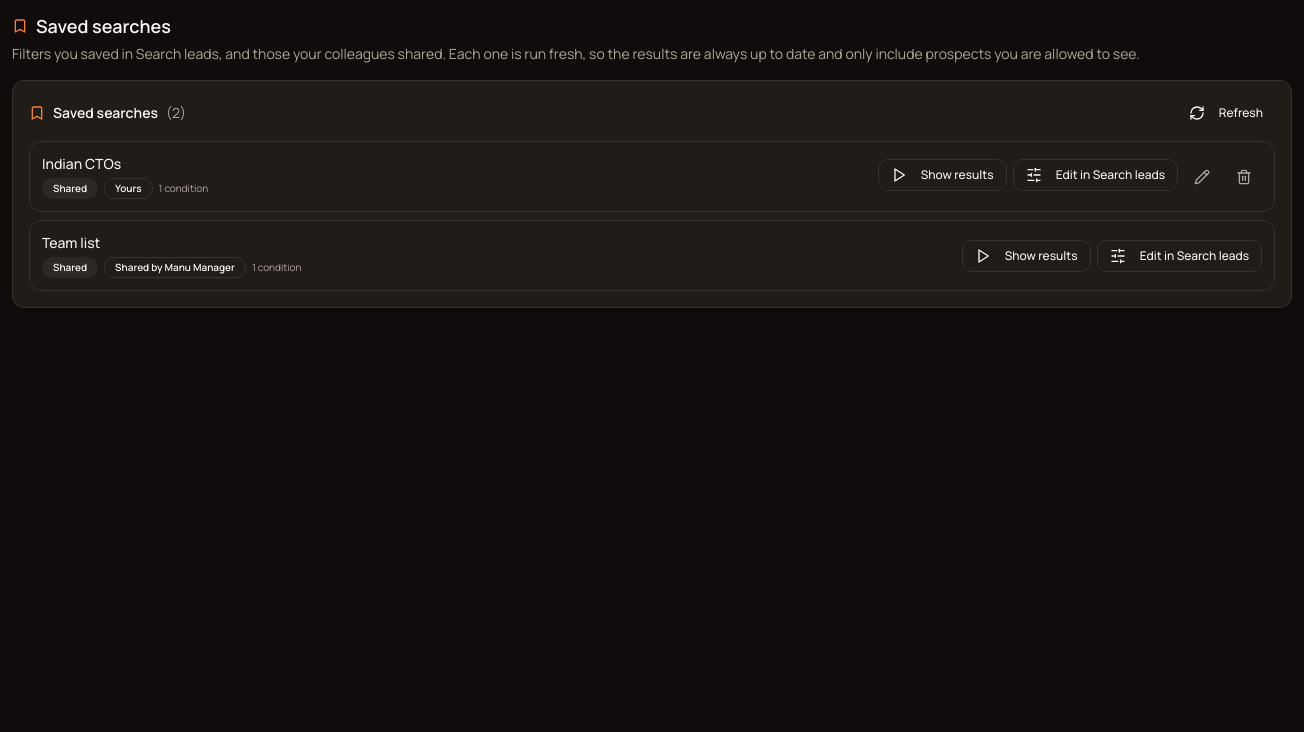
Scenario: runs a saved search on the server with the caller’s access
The image size is (1304, 732).
Click the button with aria-label "Show results for saved search Indian CTOs": point(942, 174) [878,158,1007,190]
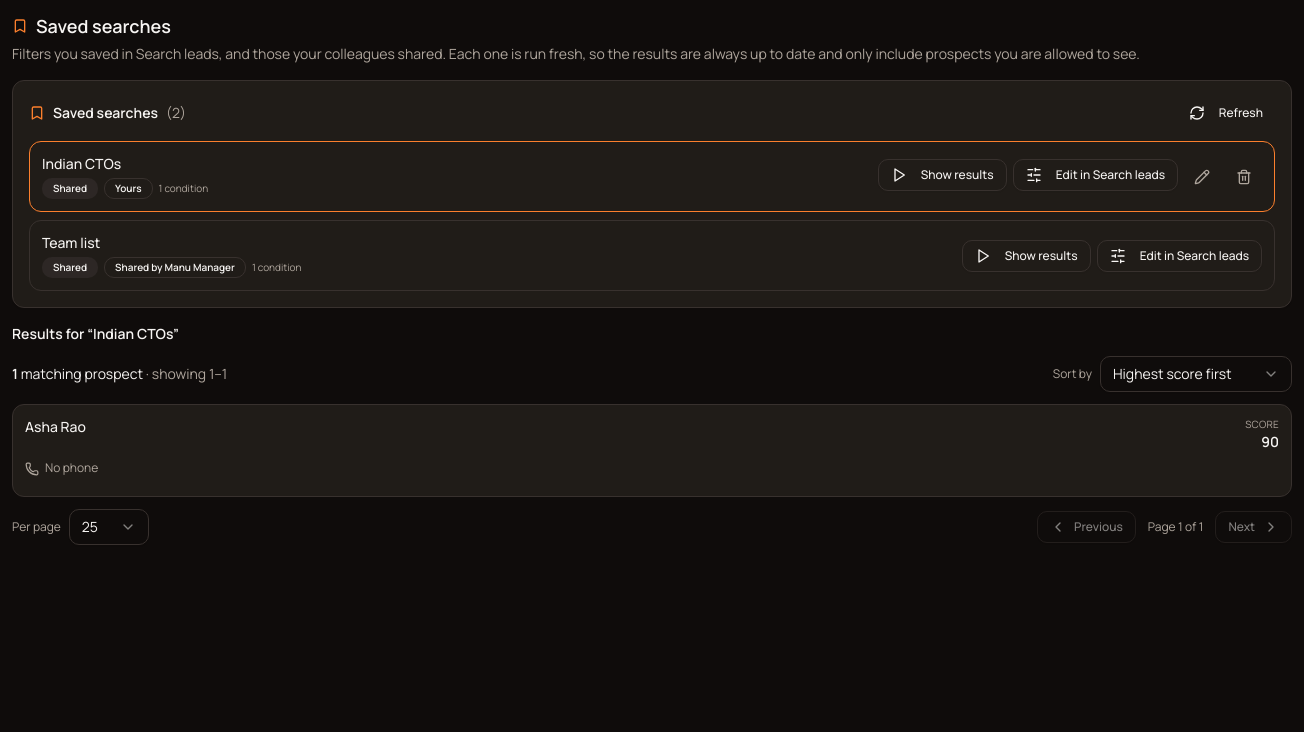
Now the text "Asha Rao" is shown, box [25,417,86,436]
Now the element named "Saved search results" shows "Results for “Indian CTOs”", box [12,324,1292,545]
